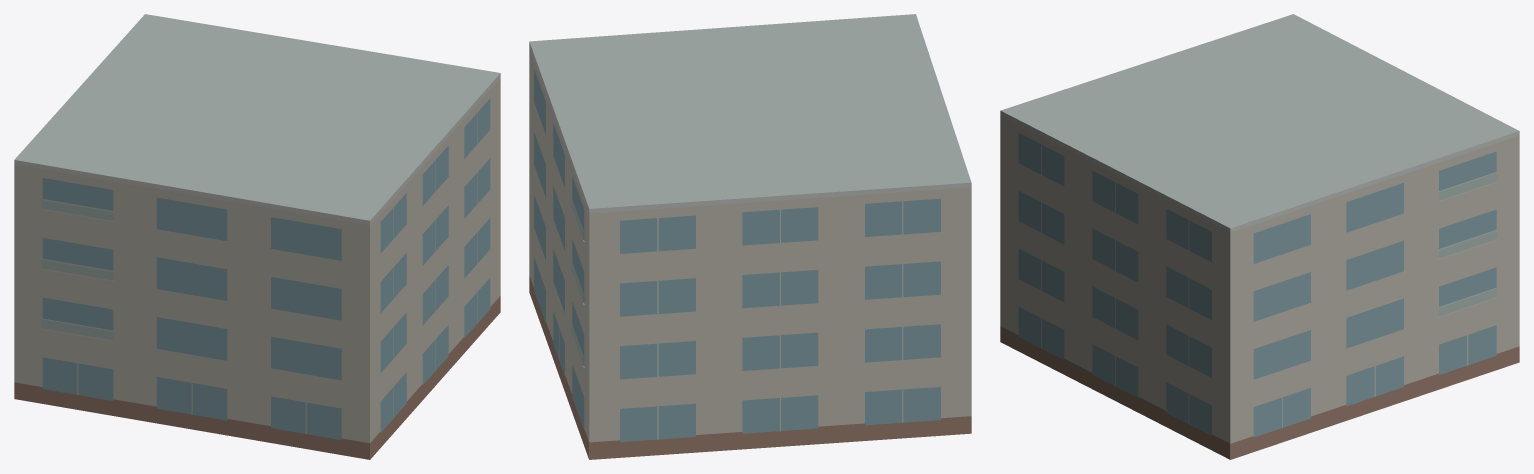
The model's file is survey-upis-32745092.glb.
The picture shows the model from 3 angles, left to right: view 1: azimuth 30°, elevation 25°; view 2: azimuth 150°, elevation 25°; view 3: azimuth 270°, elevation 25°; orthographic projection. The views are drawn at different scales.
Visible parts, largest first — view 1: survey-upis-32745092.tmp; view 2: survey-upis-32745092.tmp; view 3: survey-upis-32745092.tmp.
Boxes of the visible parts, x1=… form: survey-upis-32745092.tmp: x1=14, y1=14, x2=500, y2=459; survey-upis-32745092.tmp: x1=529, y1=14, x2=971, y2=459; survey-upis-32745092.tmp: x1=1000, y1=14, x2=1519, y2=459.
Bounding box in the file's own units: 25.43 × 12.8 × 26.02.
